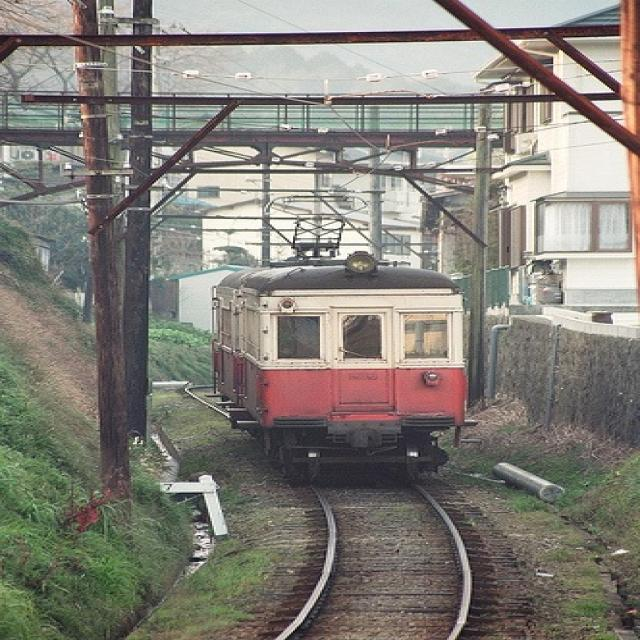train: (206, 196, 466, 488)
